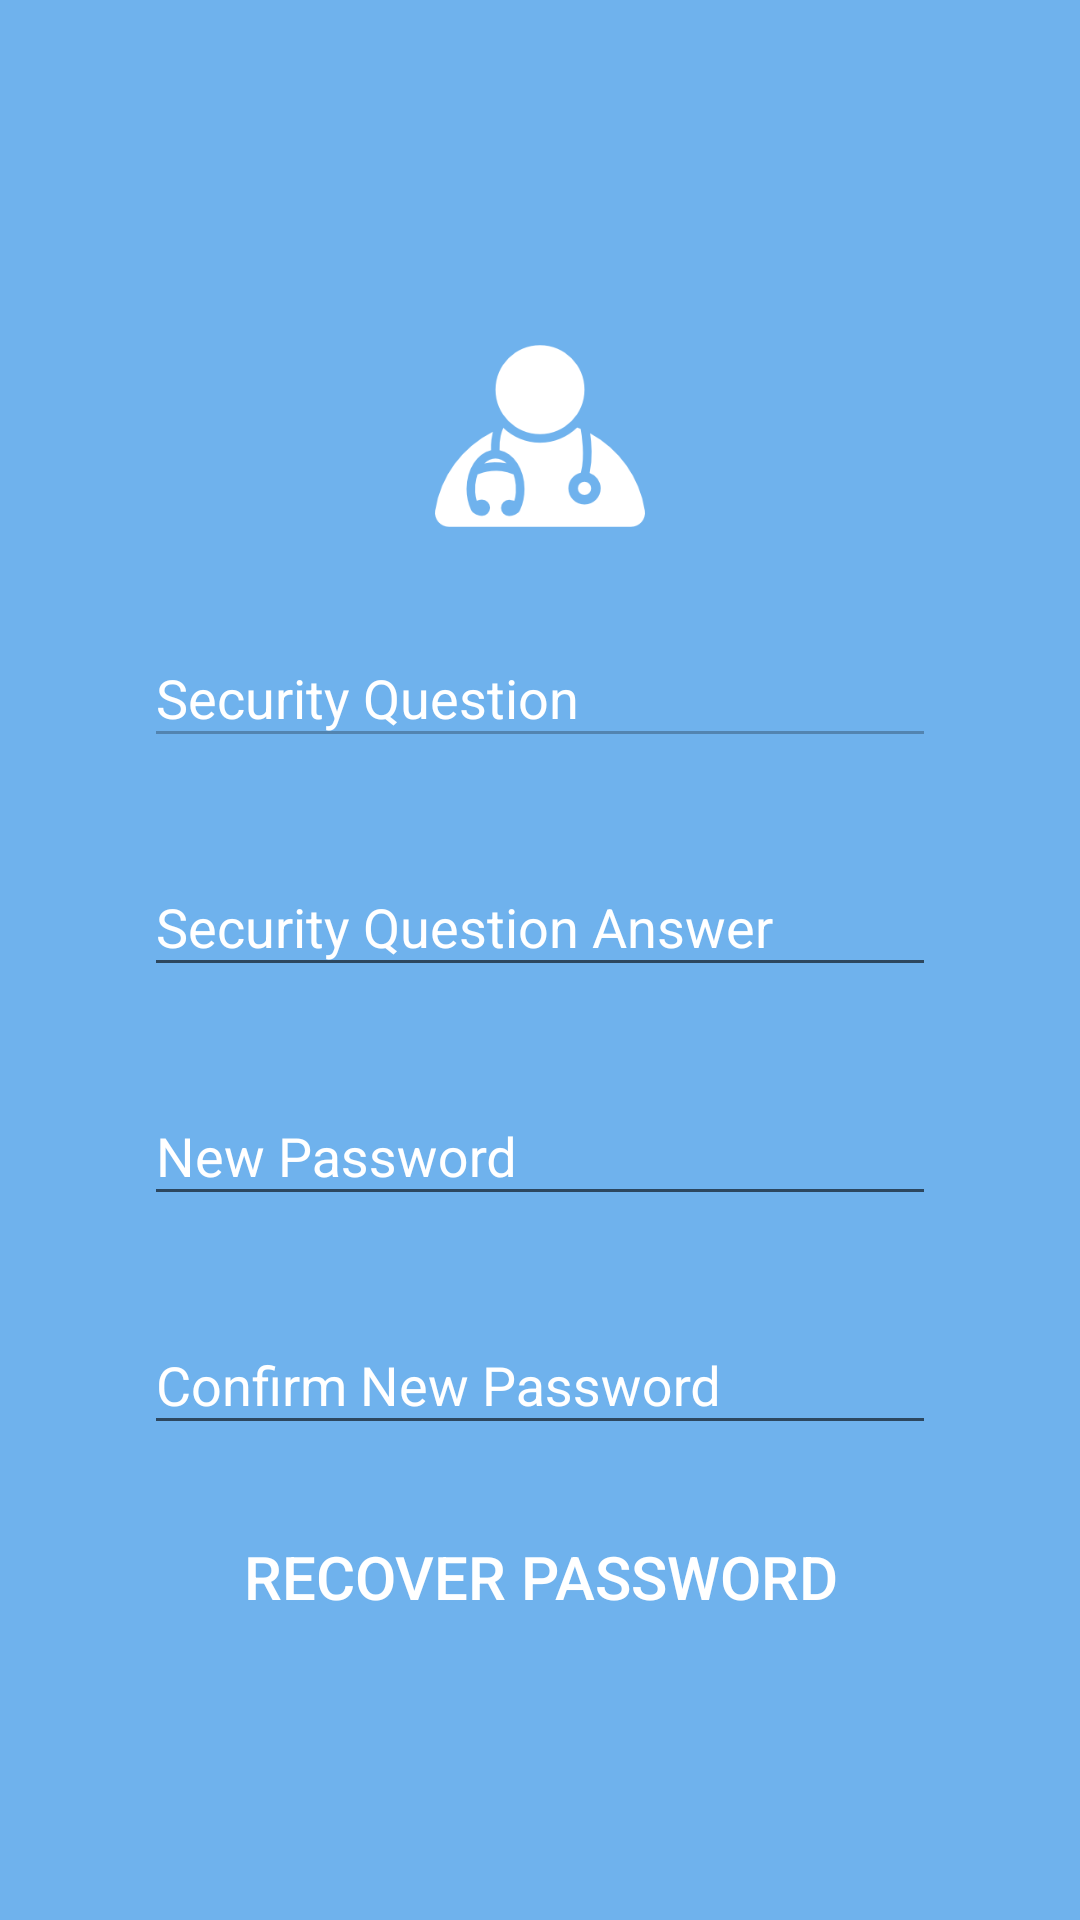

Icon click points for this 1080x1920 phone screenshot, format (x=x, y=y):
doctor: (x=540, y=436)
